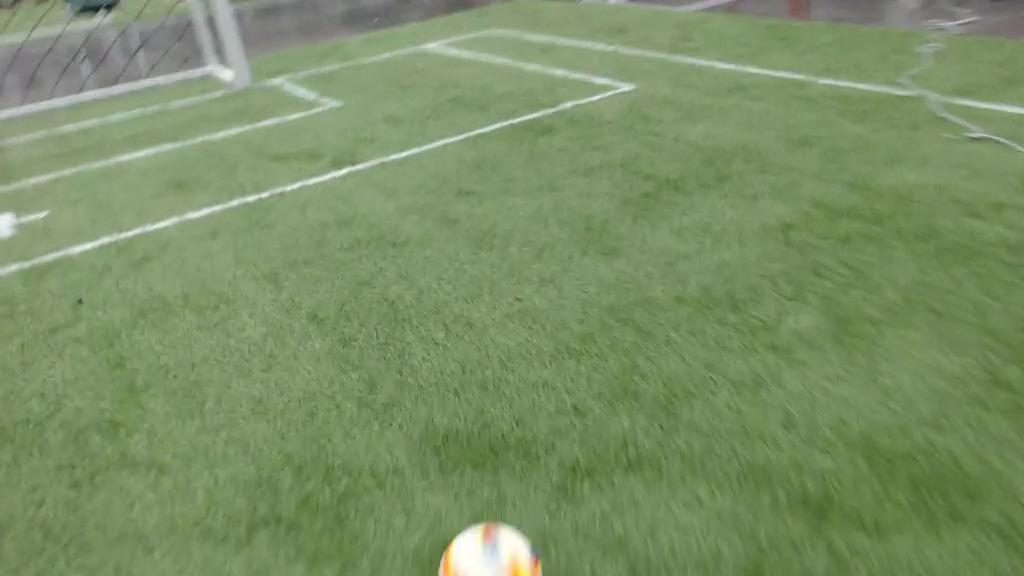ball: (439, 527, 543, 576)
